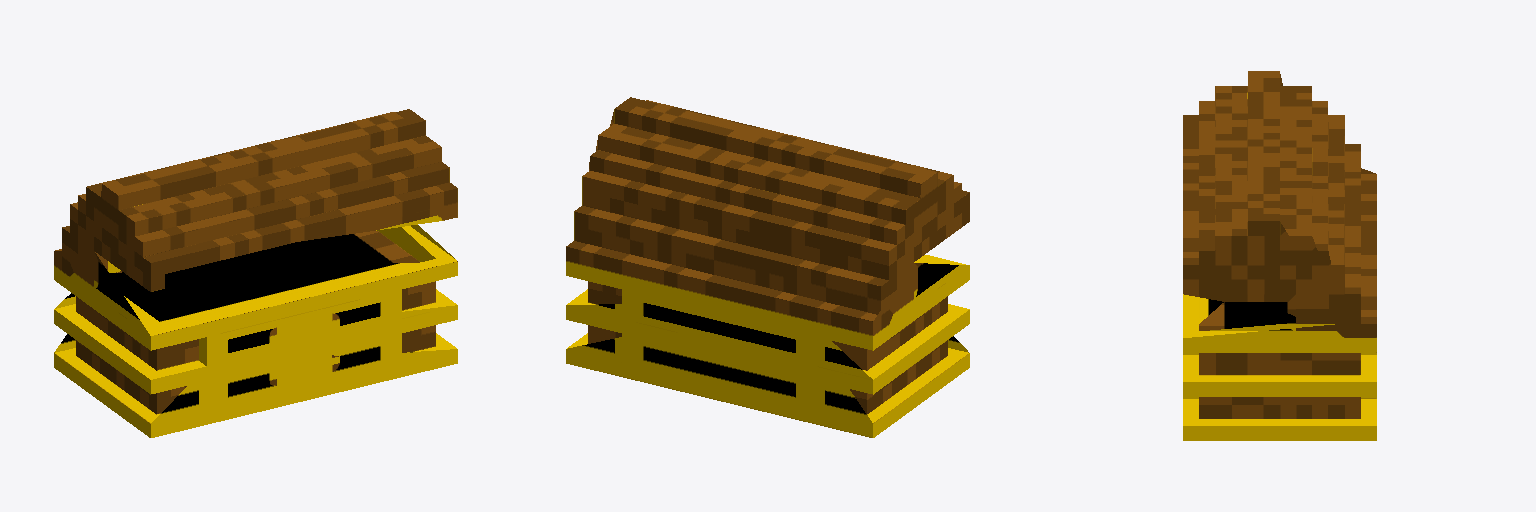
3 renders of one model, left to right at view 1: azimuth 30°, elevation 25°; view 2: azimuth 150°, elevation 25°; view 3: azimuth 270°, elevation 25°, orthographic.
Parts seen in each view (by area): view 1: Chest_Big_Open_Chest_Big_Open.002; view 2: Chest_Big_Open_Chest_Big_Open.002; view 3: Chest_Big_Open_Chest_Big_Open.002.
Part boxes in pixels (x1,y1,x2,y2): Chest_Big_Open_Chest_Big_Open.002: (54,109,457,437); Chest_Big_Open_Chest_Big_Open.002: (566,97,969,437); Chest_Big_Open_Chest_Big_Open.002: (1183,71,1376,440).
Size of the model in its own units: 2.2 by 1.5 by 1.2.
1 materials, 1 textured.